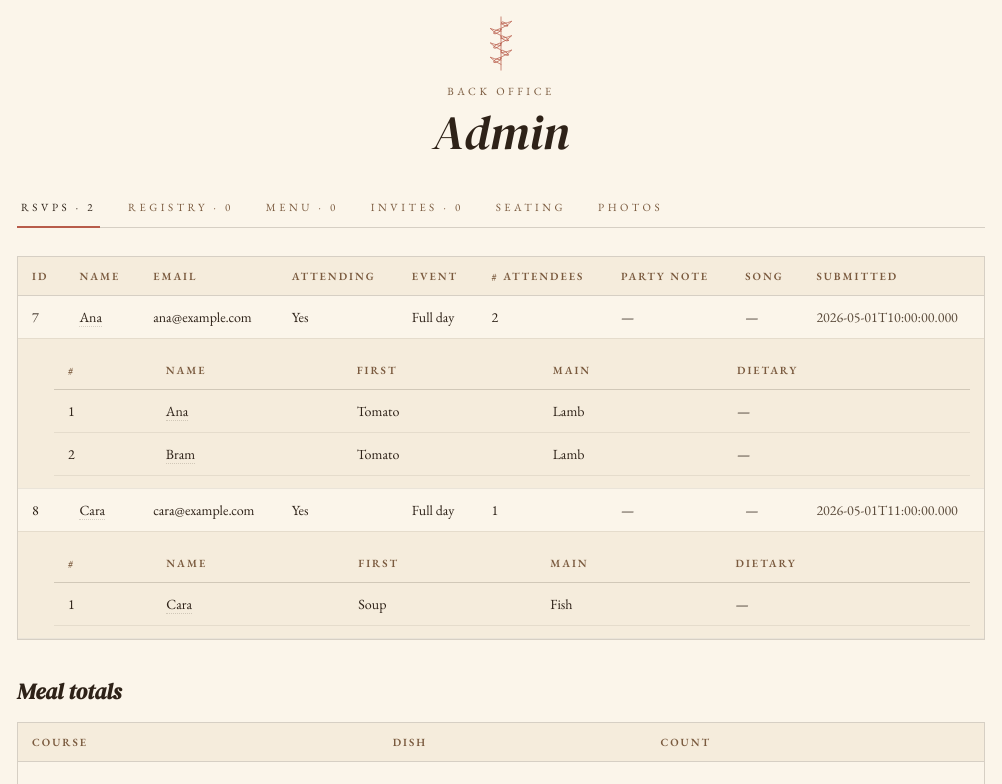
Test: AdminDashboard — renaming guests › Enter on an attendee cell PATCHes that attendee
This screenshot has width=1002, height=784.
Click the button with aria-label "Attendee 2 name: Bram".
click(180, 454)  # box [166, 445, 195, 464]
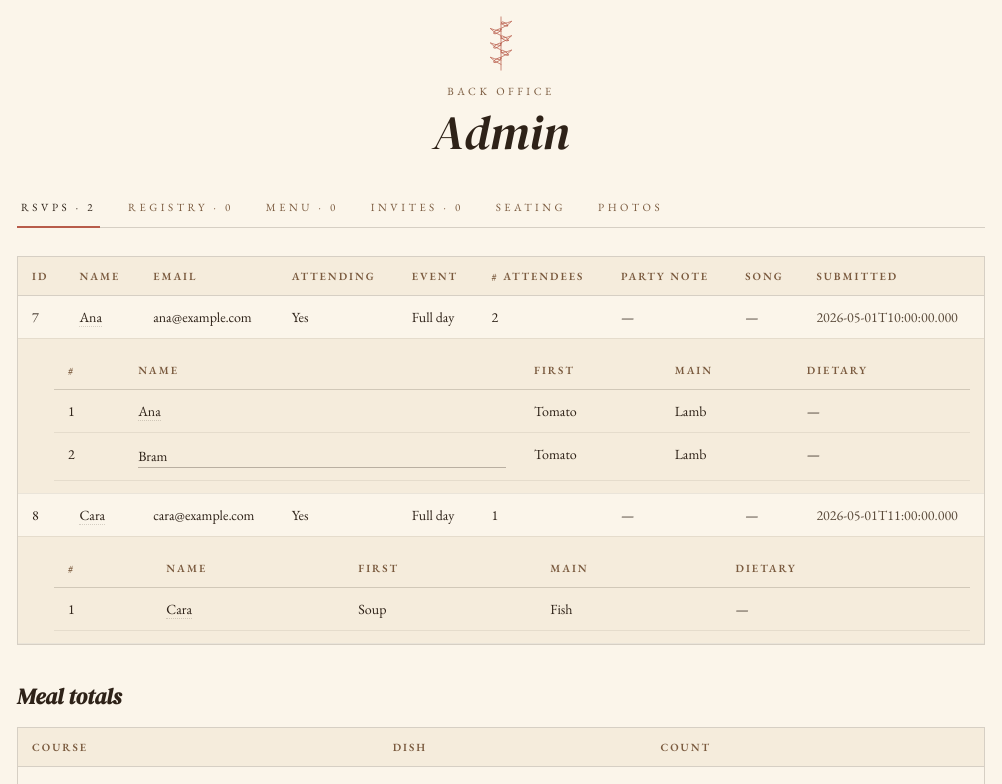
Replace the text in the field named "Attendee 2 name: Bram" with "Bram Peeters" at (322, 456), box [138, 445, 506, 468]
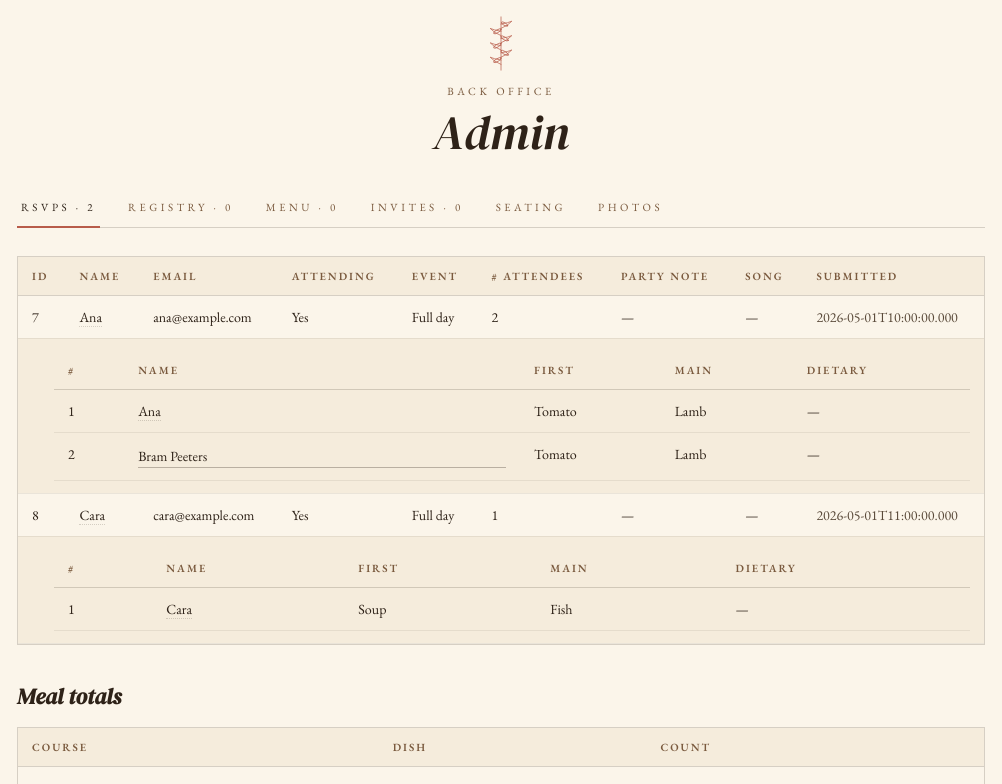
Press Enter in the field named "Attendee 2 name: Bram", box [138, 445, 506, 468]
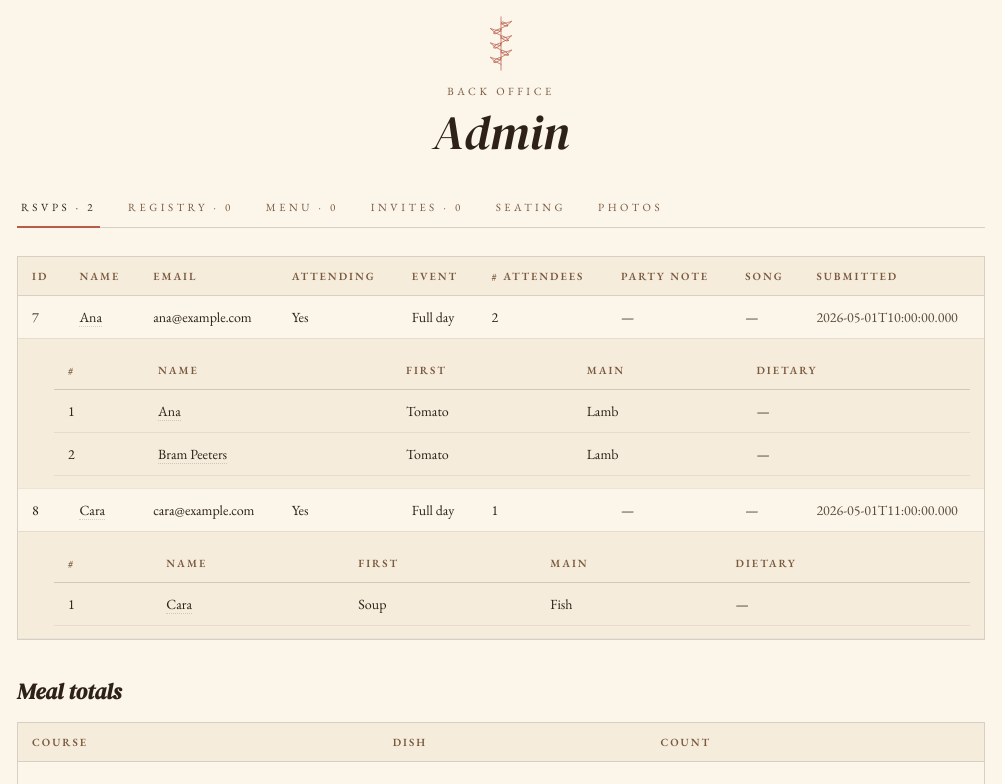
Expected: the button "Bram Peeters" is shown, [158, 445, 227, 464]
Expected: the number of buttons "Ana" is 2, [79, 308, 102, 327]; [158, 402, 181, 421]
